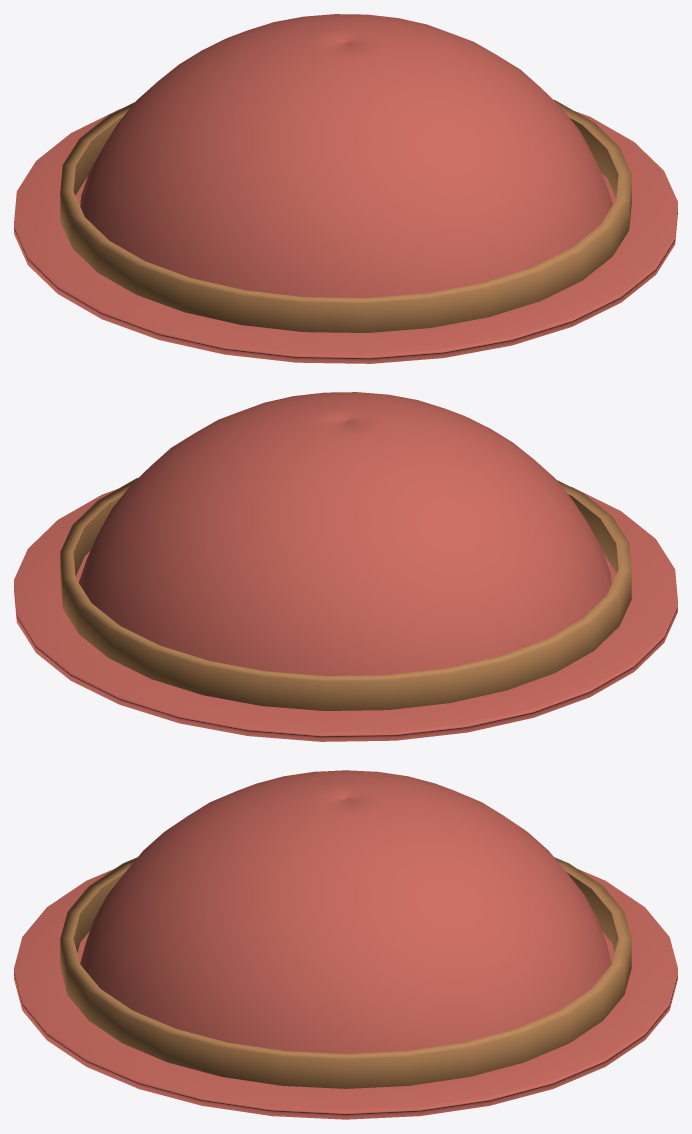
The model's file is bowler_hat_with_ribbon.glb.
The picture shows the model from 3 angles, top to bottom: view 1: azimuth 30°, elevation 25°; view 2: azimuth 150°, elevation 25°; view 3: azimuth 270°, elevation 25°; orthographic projection.
Visible parts, largest first — view 1: bowler_hat_with_ribbon_Head; view 2: bowler_hat_with_ribbon_Head; view 3: bowler_hat_with_ribbon_Head.
Boxes of the visible parts, x1,y1,x2,y2 form: bowler_hat_with_ribbon_Head: (14,14,677,363); bowler_hat_with_ribbon_Head: (14,392,677,741); bowler_hat_with_ribbon_Head: (14,770,677,1119).
Size of the model in its own units: 0.86 by 0.258 by 0.86.
